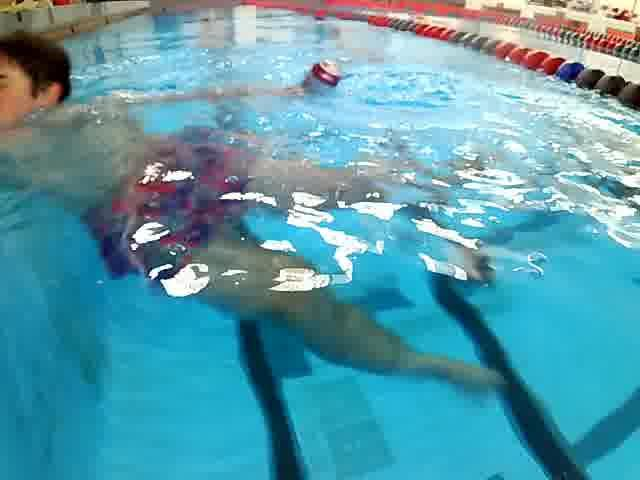Can: (298, 54, 348, 106)
